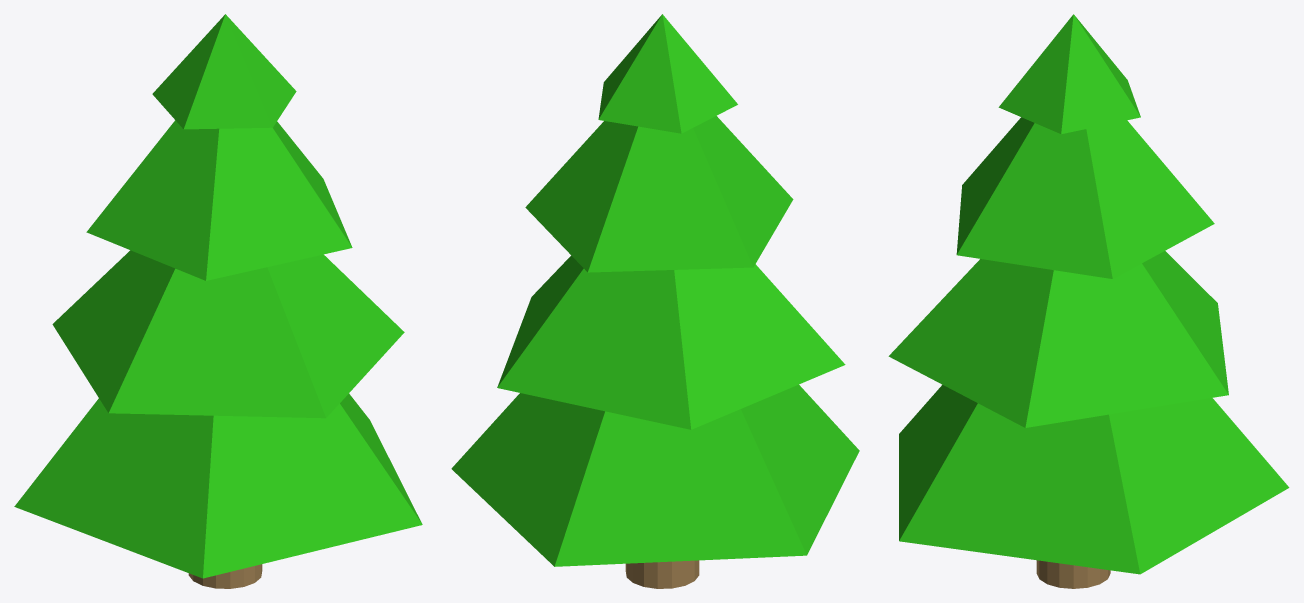
File: tree.fbx
3 renders of one model, left to right at view 1: azimuth 30°, elevation 25°; view 2: azimuth 150°, elevation 25°; view 3: azimuth 270°, elevation 25°, orthographic.
Visible parts, largest first — view 1: tree; view 2: tree; view 3: tree.
Boxes of the visible parts, box(x1,y1,x2,y2) form: tree: box(14, 14, 422, 588); tree: box(451, 14, 859, 588); tree: box(888, 14, 1289, 588).
Bounding box in the file's own units: 617 × 927 × 602.
